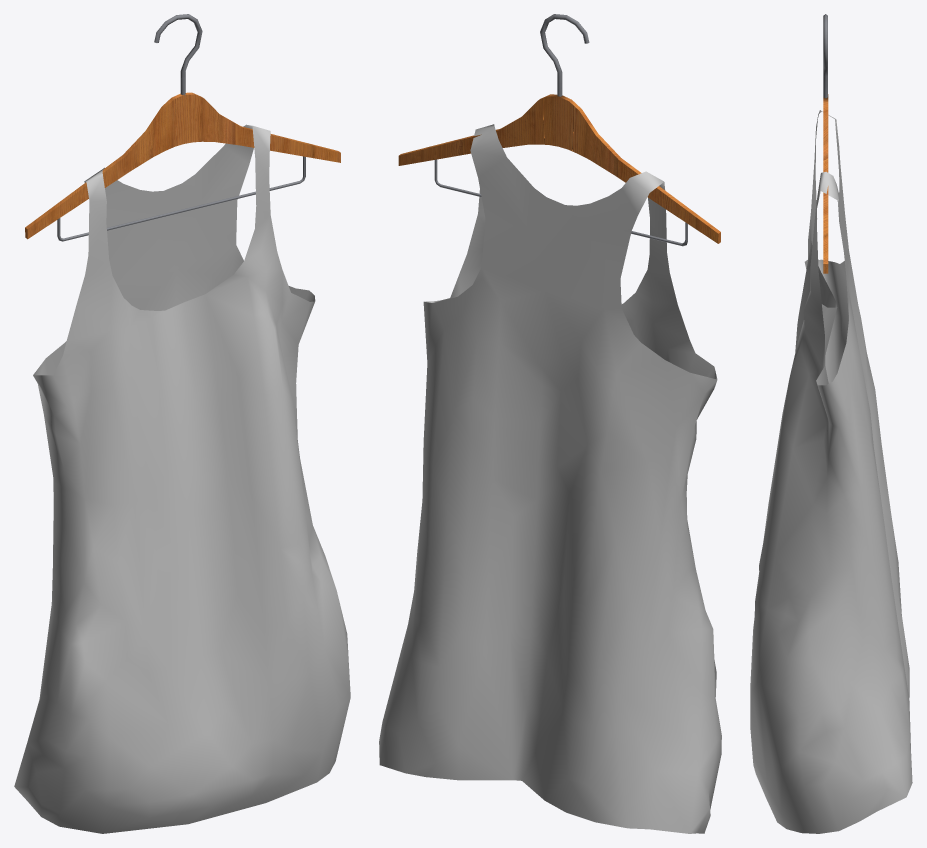
The model's file is shirtracerback.FBX.
The picture shows the model from 3 angles, left to right: view 1: azimuth 30°, elevation 25°; view 2: azimuth 150°, elevation 25°; view 3: azimuth 270°, elevation 25°; orthographic projection. The views are drawn at different scales.
Parts seen in each view (by area): view 1: shirtraceback_LOD0, _Hanger-1_LOD0; view 2: shirtraceback_LOD0, _Hanger-1_LOD0; view 3: shirtraceback_LOD0, _Hanger-1_LOD0.
Boxes of the visible parts, left/top/right/bottom form: shirtraceback_LOD0: left=14, top=124, right=350, bottom=833; _Hanger-1_LOD0: left=25, top=14, right=340, bottom=241; shirtraceback_LOD0: left=379, top=124, right=721, bottom=833; _Hanger-1_LOD0: left=398, top=14, right=720, bottom=246; shirtraceback_LOD0: left=750, top=110, right=912, bottom=833; _Hanger-1_LOD0: left=823, top=14, right=828, bottom=273.
Size of what is drawn, in the model's own units: 30.87 by 14.26 by 73.47.
